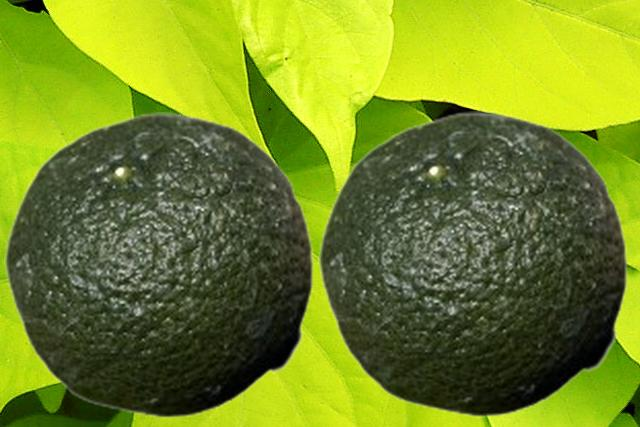calamansi: (4, 112, 313, 417), (318, 111, 627, 416)
